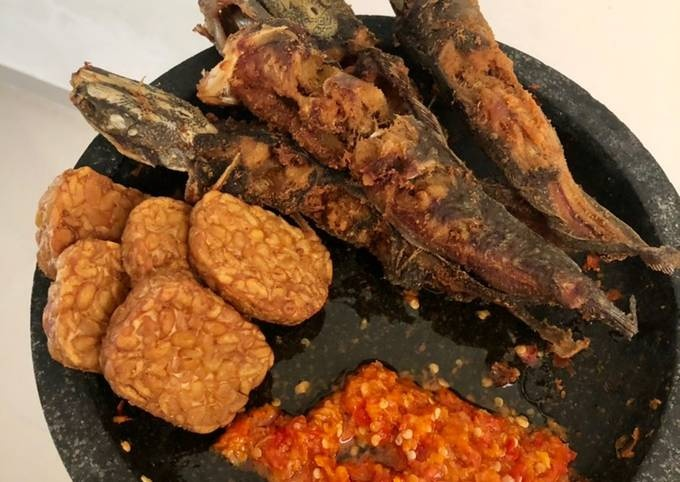pecel_lele: (208, 1, 565, 194)
